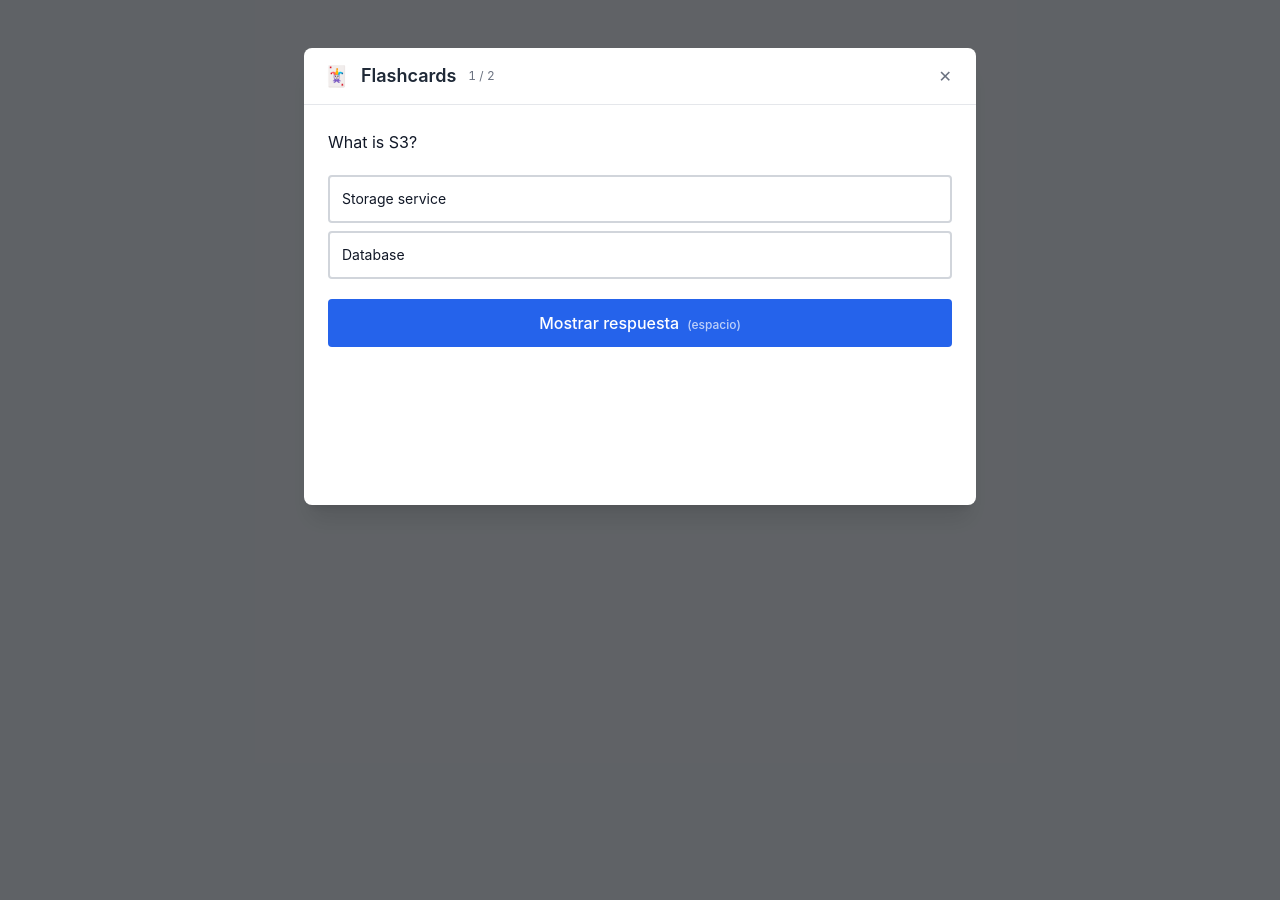
it: FlashcardMode › grades a card and advances to the next
Check: the text "1 / 2" is shown, box [468, 68, 495, 84]
Step 1. Click the button "Mostrar respuesta(espacio)" → (640, 323), box [328, 299, 952, 347]
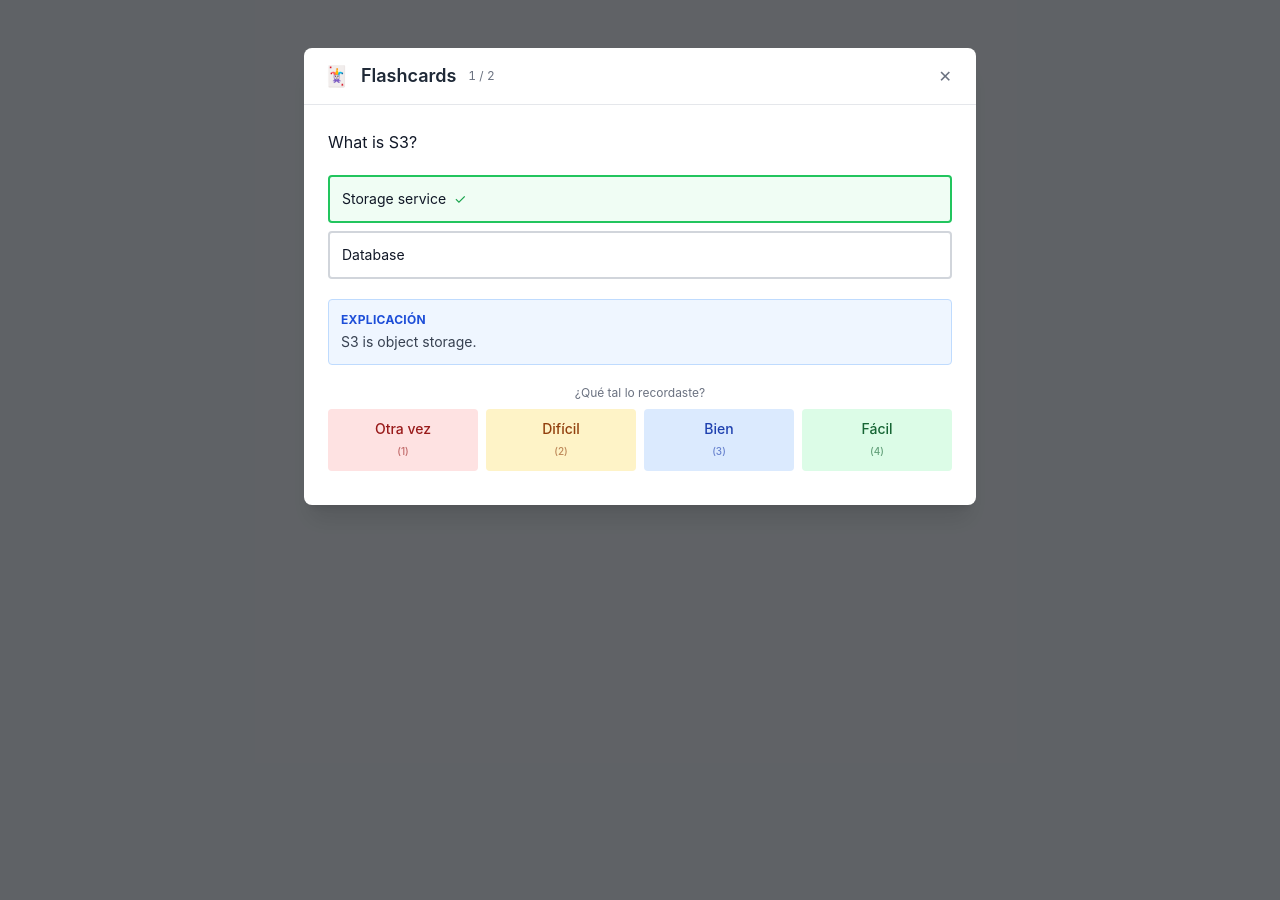
Step 2. Click the button "Bien (3)" → (719, 440), box [644, 409, 794, 471]
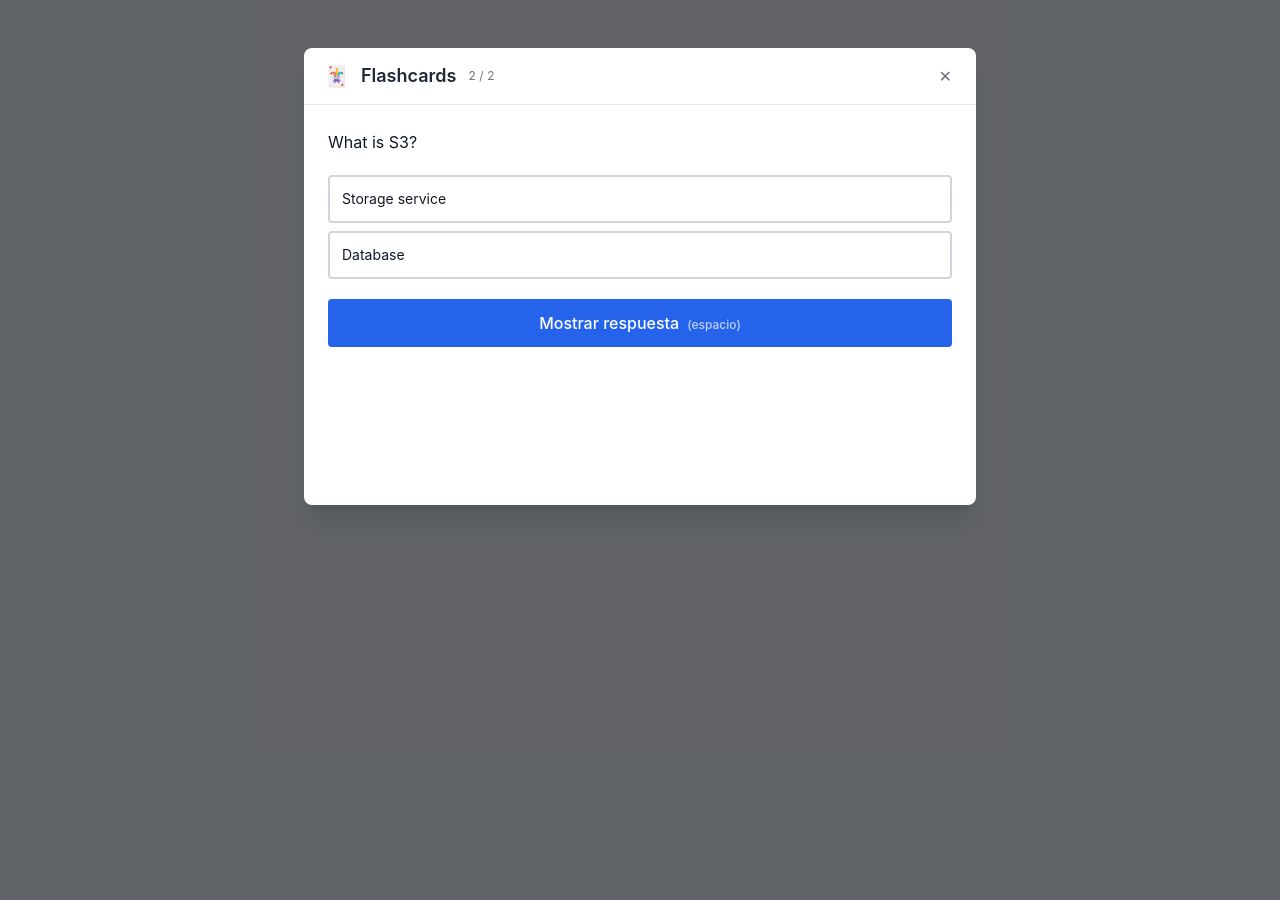
Check: the text "2 / 2" is shown, box [468, 68, 495, 84]
